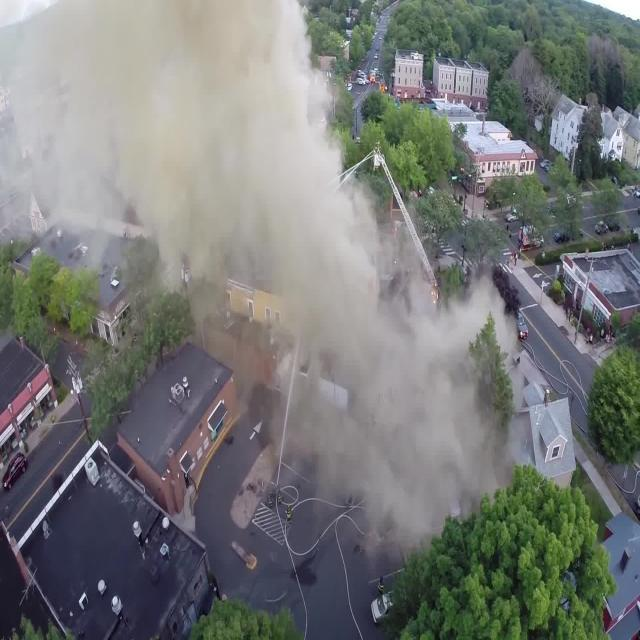Smoke: (38, 0, 314, 223), (348, 362, 477, 518), (291, 240, 374, 343)
